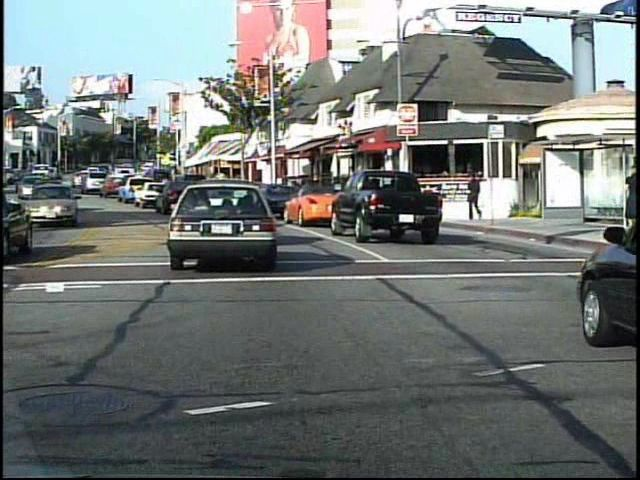person: (620, 165, 640, 225), (463, 174, 482, 227)
